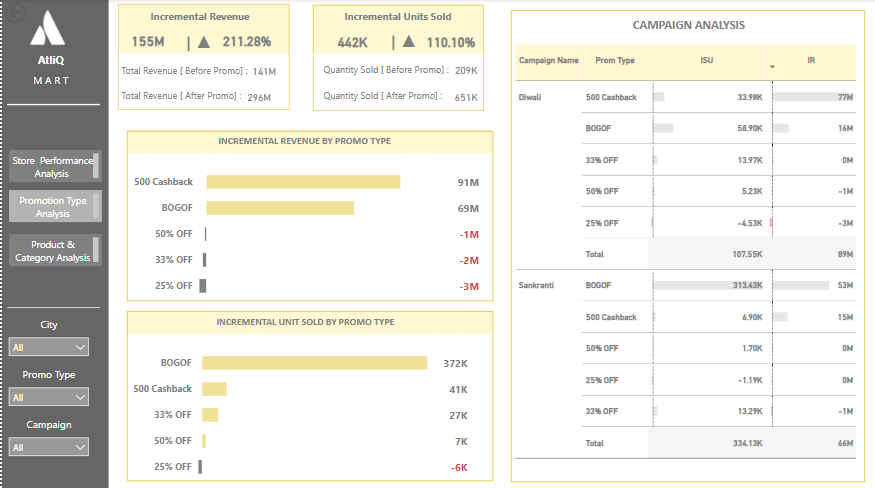

This screenshot's page, from the dashboard's own definition file:
{"tool":"powerbi","page":{"name":"Page 2","canvas":[1280,720],"ordinal":1},"visuals":[{"type":"textbox","box":[10.1,0,366.2,70.6],"z":0},{"type":"columnChart","title":"Top 2 promo type by IR","fields":{"Category":["fact_events2.promo_type"],"Y":["Sum(fact_events2.IR)"]},"box":[31.9,435.1,366.2,245.2],"z":1},{"type":"columnChart","title":"Bottom 2 Promo type by ISU","fields":{"Category":["fact_events2.promo_type"],"Y":["Sum(fact_events2.ISU)"]},"box":[438.4,435.1,366.2,245.2],"z":2},{"type":"columnChart","title":" IR by promo_type","fields":{"Category":["fact_events2.promo_type"],"Y":["Sum(fact_events2.IR)"]},"box":[31.9,210,366.2,210],"z":3},{"type":"columnChart","fields":{"Y":["Sum(fact_events2.ISU)"],"Category":["fact_events2.promo_type"]},"box":[438.4,210,366.2,210],"z":4},{"type":"card","fields":{"Values":["Sum(fact_events2.Revenue After Promo)"]},"box":[31.9,85.7,245.2,105.8],"z":5},{"type":"card","fields":{"Values":["Sum(fact_events2.Revenue Before Promo)"]},"box":[376.3,85.7,245.2,105.8],"z":6},{"type":"clusteredColumnChart","title":"Quantity_sold(after_promo) and Quantity_sold(before_promo) by promo_type","fields":{"Category":["fact_events2.promo_type"],"Y":["Sum(fact_events2.quantity_sold(after_promo))","Sum(fact_events2.quantity_sold(before_promo))"]},"box":[850,435.1,416.6,245.2],"z":7},{"type":"slicer","fields":{"Values":["fact_events2.promo_type"]},"box":[850,210,374.6,210],"z":8}]}

Visuals, with their boxes on the page's 1280x720 design canvas (x1, y1, x2, y2). These are canvas units, not pixel positions in the 875x488 screenshot, which may show the page scaled, cropped or inside an application window:
textbox: box(10, 0, 376, 71)
"Top 2 promo type by IR" columnChart: box(32, 435, 398, 680)
"Bottom 2 Promo type by ISU" columnChart: box(438, 435, 805, 680)
" IR by promo_type" columnChart: box(32, 210, 398, 420)
columnChart - Sum(fact_events2.ISU) x fact_events2.promo_type: box(438, 210, 805, 420)
card - Sum(fact_events2.Revenue After Promo): box(32, 86, 277, 192)
card - Sum(fact_events2.Revenue Before Promo): box(376, 86, 622, 192)
"Quantity_sold(after_promo) and Quantity_sold(before_promo) by promo_type" clusteredColumnChart: box(850, 435, 1267, 680)
slicer - fact_events2.promo_type: box(850, 210, 1225, 420)
